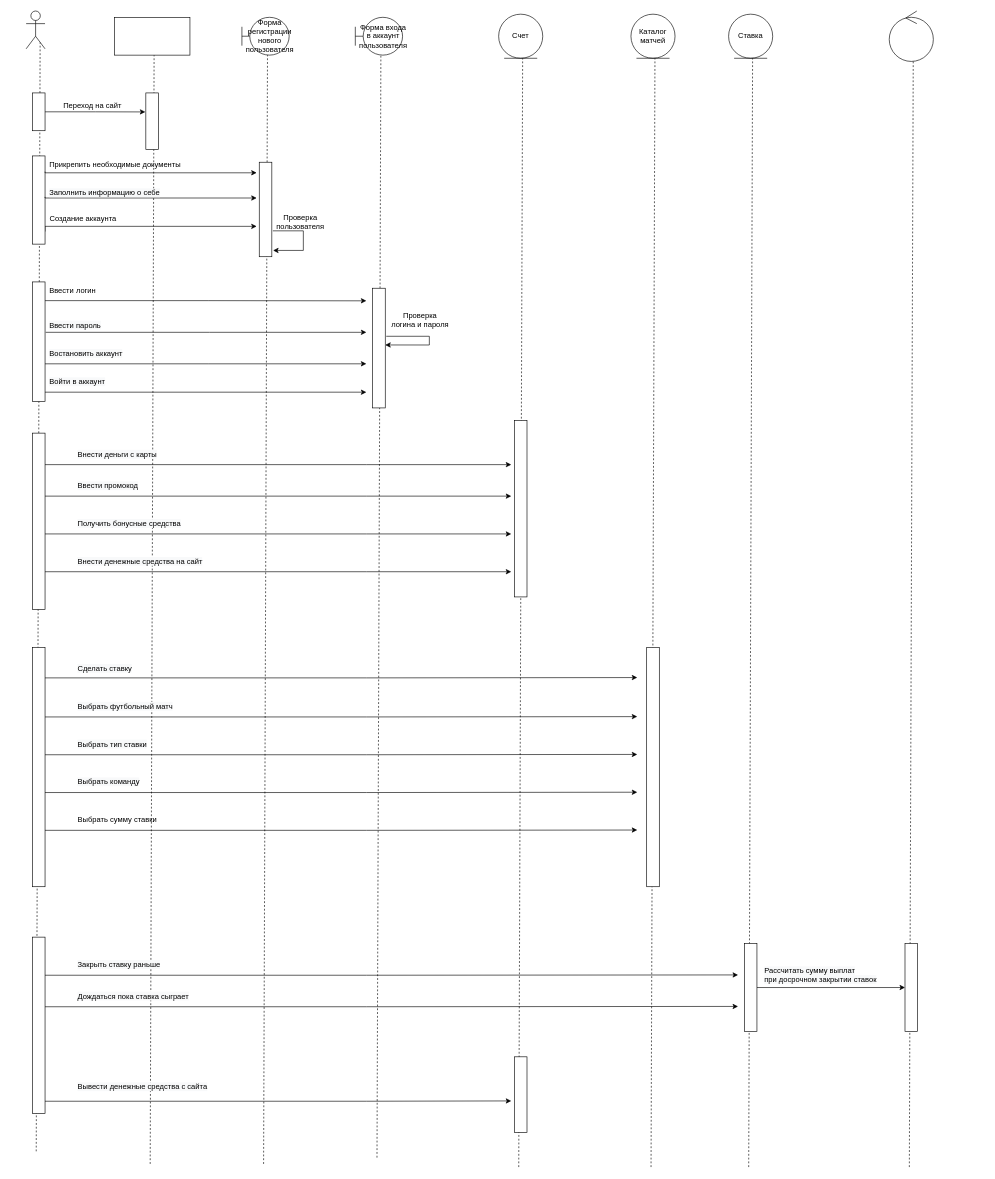
Some shapes in this 995 by 1179 pixel diagram are drawn without their labels. The box of each missing label's shape, as (x1, y1, x2, y2) in pixels:
Админ сайта: (889, 10, 933, 61)
Пользователь: (26, 10, 45, 49)
Сайт: (114, 17, 190, 55)
